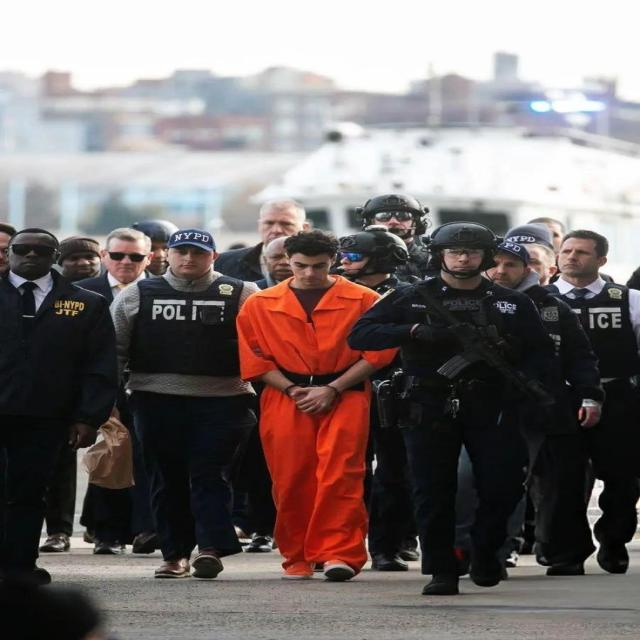9_cabeza_baja: (285, 231, 337, 286)
